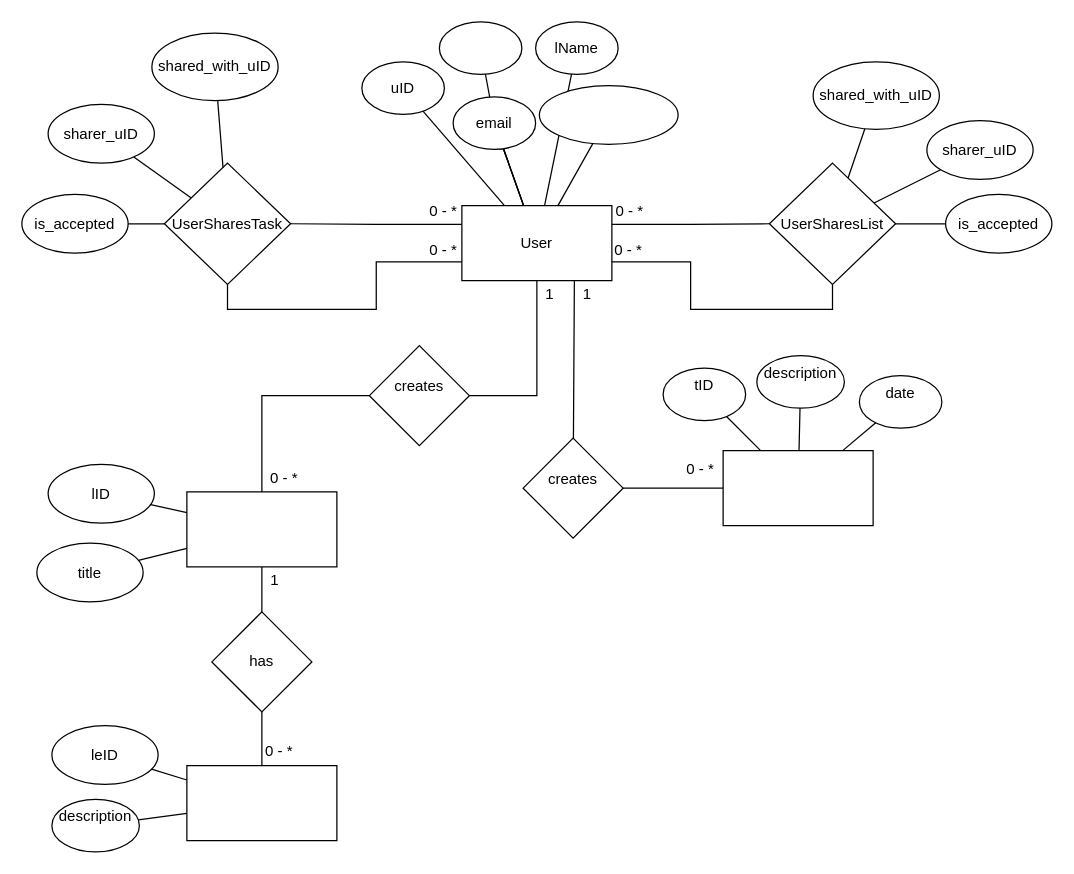
Image size: 1074x874. Some labels were removed from this diagram. Here are the shapes that lost their labels. From the top down, the centre of each, then its label:
the point at 480,47: fName
the point at 608,114: password_hash
the point at 797,487: Task
the point at 261,529: List
the point at 261,802: ListElement
